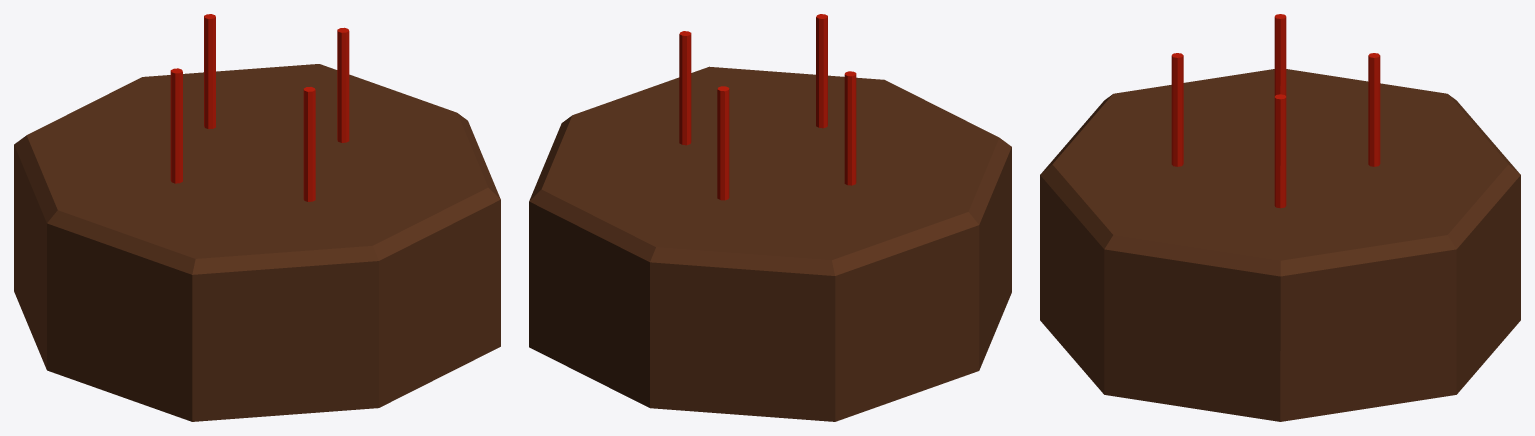
File: chocCake.fbx
3 renders of one model, left to right at view 1: azimuth 30°, elevation 25°; view 2: azimuth 150°, elevation 25°; view 3: azimuth 270°, elevation 25°, orthographic.
Parts seen in each view (by area): view 1: Plane, Plane.001, Plane.004, Plane.002, Plane.003; view 2: Plane, Plane.001, Plane.003, Plane.002, Plane.004; view 3: Plane, Plane.004, Plane.003, Plane.002, Plane.001.
Part boxes in pixels (x1,y1,x2,y2): Plane: [14, 64, 500, 421]; Plane.001: [170, 68, 182, 183]; Plane.004: [303, 87, 315, 201]; Plane.002: [337, 27, 349, 142]; Plane.003: [204, 14, 215, 129]; Plane: [529, 66, 1011, 421]; Plane.001: [844, 71, 856, 185]; Plane.003: [717, 86, 729, 200]; Plane.002: [679, 31, 691, 145]; Plane.004: [816, 14, 827, 128]; Plane: [1040, 69, 1520, 421]; Plane.004: [1171, 53, 1183, 166]; Plane.003: [1368, 53, 1380, 166]; Plane.002: [1274, 94, 1286, 208]; Plane.001: [1274, 14, 1286, 96].
Bounding box in the file's own units: 36.11 × 21.95 × 36.11.
